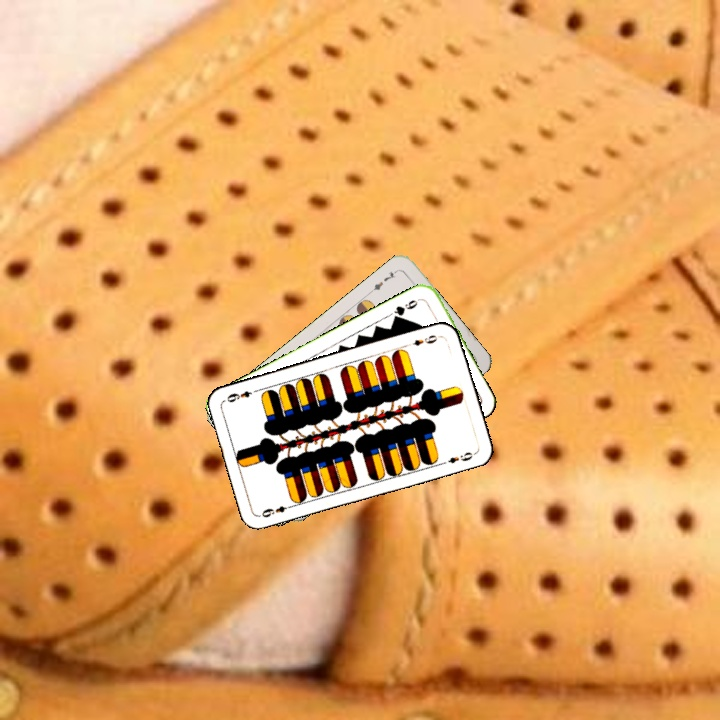E7: (366, 266, 401, 296)
E9: (256, 501, 296, 520), (409, 331, 443, 349)
G9: (389, 294, 424, 323)
